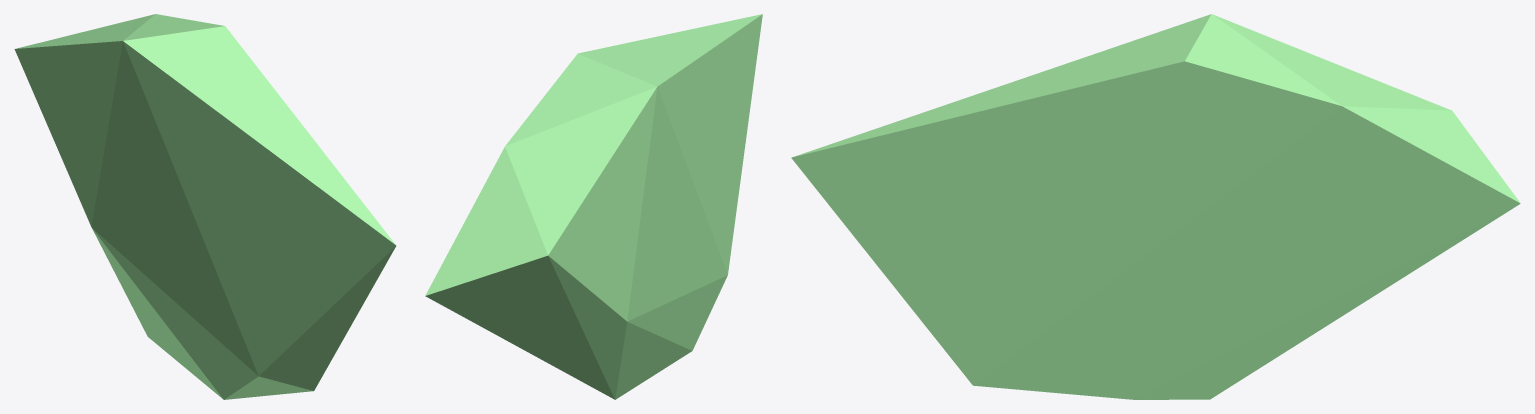
Rendered from xarm7_with_gripper_LR4_R560_link7_respondable_coll_20.dae.
3 renders of one model, left to right at view 1: azimuth 30°, elevation 25°; view 2: azimuth 150°, elevation 25°; view 3: azimuth 270°, elevation 25°, orthographic. The views are drawn at different scales.
Visible parts, largest first — view 1: Node_000001B88F9E1200; view 2: Node_000001B88F9E1200; view 3: Node_000001B88F9E1200.
Boxes of the visible parts, left/top/right/bottom form: Node_000001B88F9E1200: left=14, top=14, right=396, bottom=399; Node_000001B88F9E1200: left=425, top=14, right=762, bottom=399; Node_000001B88F9E1200: left=791, top=14, right=1520, bottom=399.
Size of the model in its own units: 0.00543 by 0.0179 by 0.0334.
